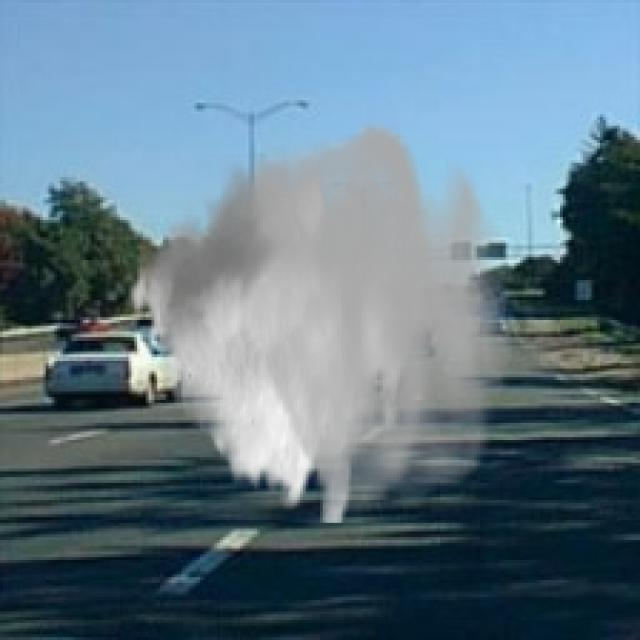Smoke: (126, 117, 512, 523)
